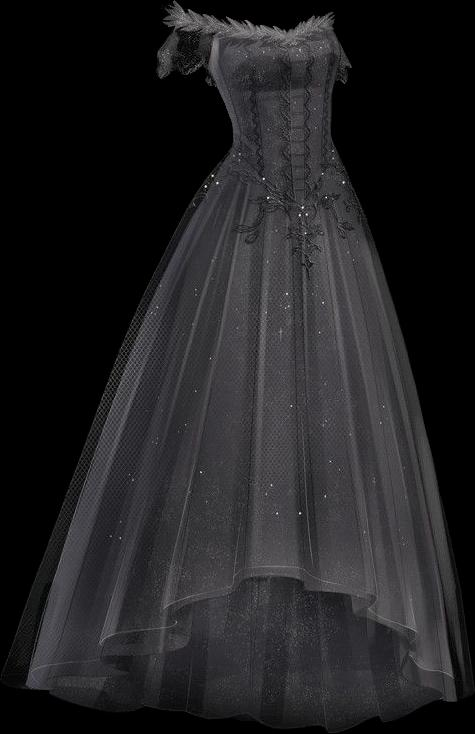Bodice: (204, 12, 338, 213)
Hemline: (2, 568, 474, 700)
Neckline: (210, 9, 335, 37)
Skirt: (1, 150, 474, 733)
Sleeve: (156, 2, 219, 78)
Sleeveline: (200, 14, 217, 68)
Waistline: (228, 146, 342, 217)
